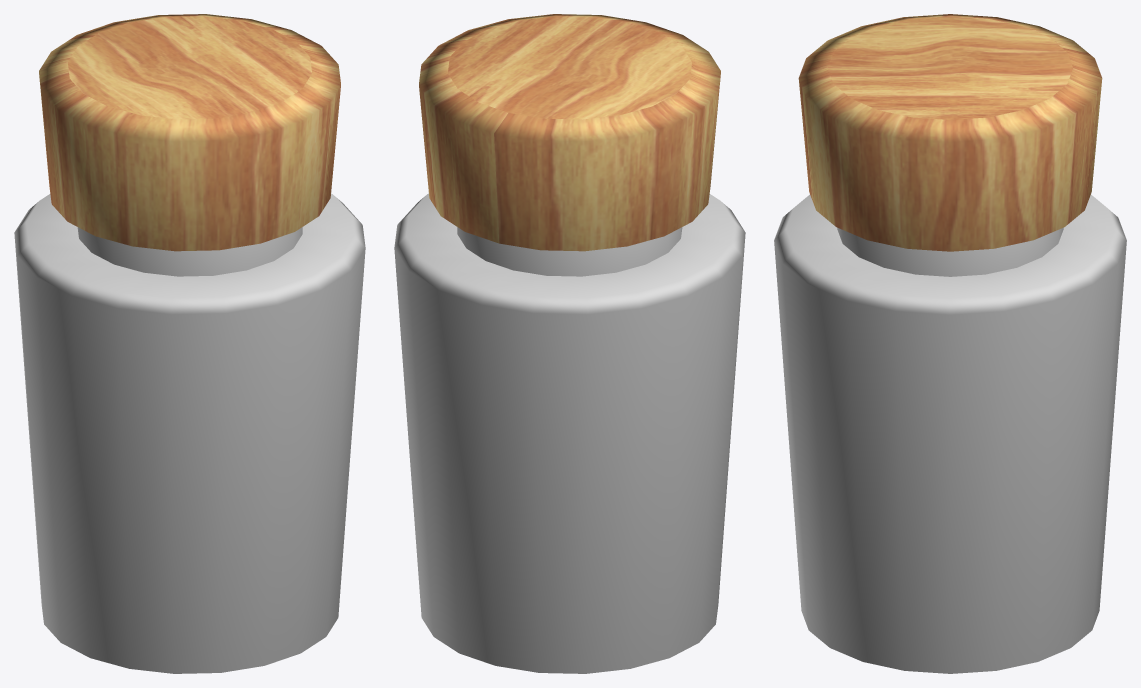
The model's file is choumiryou03.fbx.
3 renders of one model, left to right at view 1: azimuth 30°, elevation 25°; view 2: azimuth 150°, elevation 25°; view 3: azimuth 270°, elevation 25°, orthographic.
Parts seen in each view (by area): view 1: polySurface2, polySurface3; view 2: polySurface2, polySurface3; view 3: polySurface2, polySurface3.
Part boxes in pixels (x1,y1,x2,y2): polySurface2: (14, 193, 365, 673); polySurface3: (39, 14, 340, 251); polySurface2: (394, 193, 745, 673); polySurface3: (419, 14, 720, 251); polySurface2: (774, 194, 1126, 673); polySurface3: (798, 14, 1102, 251).
Bounding box in the file's own units: 8.32 × 14.13 × 8.32.
2 materials, 1 textured.
